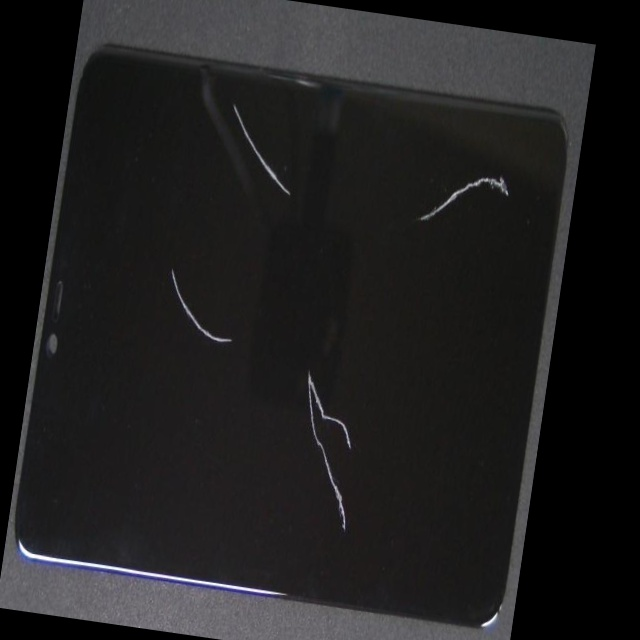scratch: (205, 252, 527, 633), (309, 82, 585, 249), (211, 143, 390, 261)
